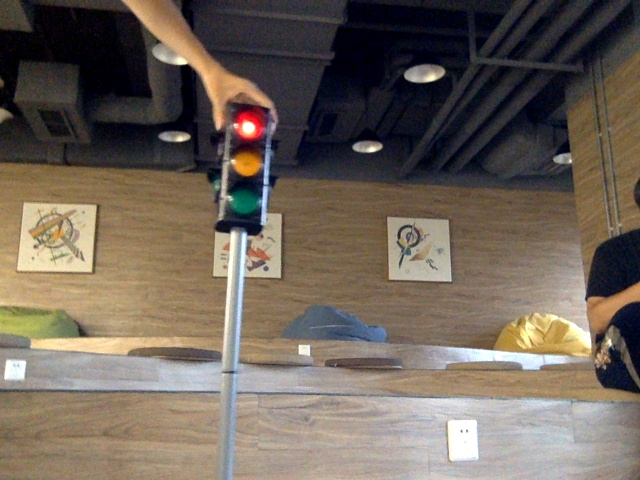red: (225, 116, 264, 219)
